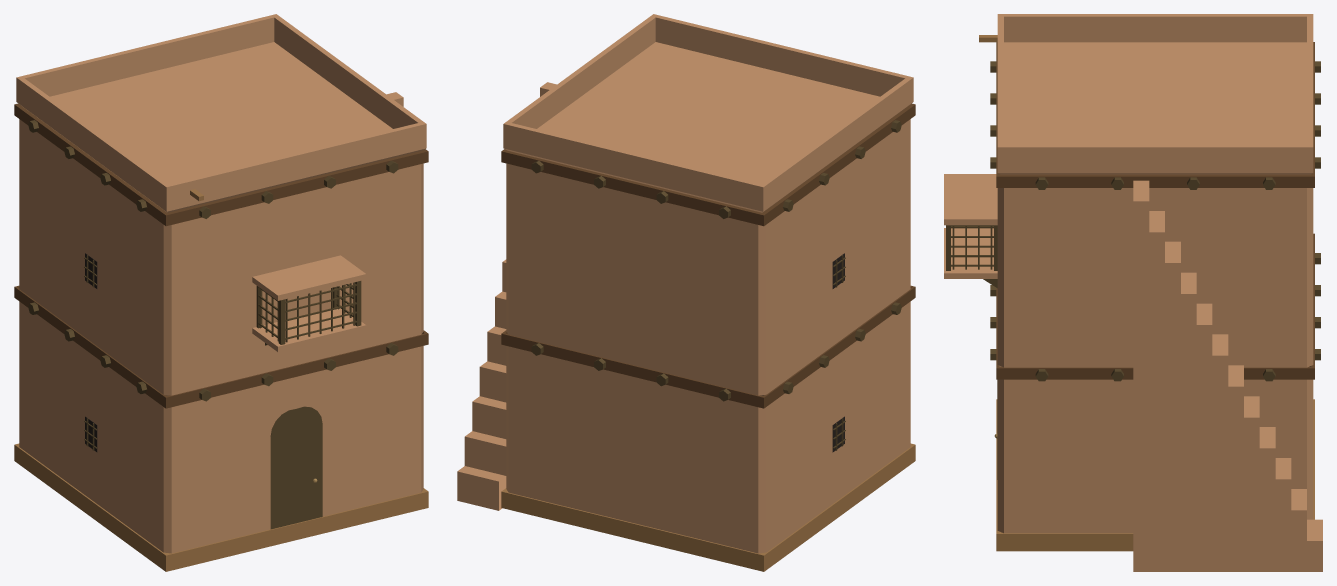
File: Housing_MiddleEast_02.fbx
3 views of the same model, side by side, from view 1: azimuth 30°, elevation 25°; view 2: azimuth 150°, elevation 25°; view 3: azimuth 270°, elevation 25° (orthographic). The views are drawn at different scales.
Parts seen in each view (by area): view 1: Walls, Cube, Wall_WetStripe, Sulbat_R, Door_Main, Sulbat_M, Balc_TopPlate, Balc_BottomPlate, Door_Arch; view 2: Walls, Cube, Wall_WetStripe, Stairs_Solid, Sulbat_R, Sulbat_M; view 3: Walls, Cube, Stairs_Solid, Sulbat_R, Wall_WetStripe, Sulbat_M, Balc_TopPlate, Balc_BottomPlate.
Part boxes in pixels (x1,y1,x2,y2): Walls: (19, 119, 423, 553); Cube: (16, 14, 426, 212); Wall_WetStripe: (14, 443, 428, 571); Sulbat_R: (14, 103, 428, 226); Door_Main: (270, 424, 322, 529); Sulbat_M: (14, 285, 428, 408); Balc_TopPlate: (252, 255, 366, 300); Balc_BottomPlate: (252, 308, 366, 351); Door_Arch: (270, 406, 322, 436); Walls: (506, 119, 910, 553); Cube: (503, 14, 913, 212); Wall_WetStripe: (501, 443, 915, 571); Stairs_Solid: (457, 82, 556, 510); Sulbat_R: (501, 103, 915, 226); Sulbat_M: (501, 285, 915, 408); Walls: (997, 188, 1313, 533); Cube: (997, 14, 1313, 174); Stairs_Solid: (1133, 180, 1322, 571); Sulbat_R: (996, 42, 1314, 187); Wall_WetStripe: (996, 399, 1314, 551); Sulbat_M: (996, 233, 1314, 379); Balc_TopPlate: (944, 174, 997, 225); Balc_BottomPlate: (944, 228, 997, 278).
Bounding box in the file's own units: 592 × 705 × 600.
